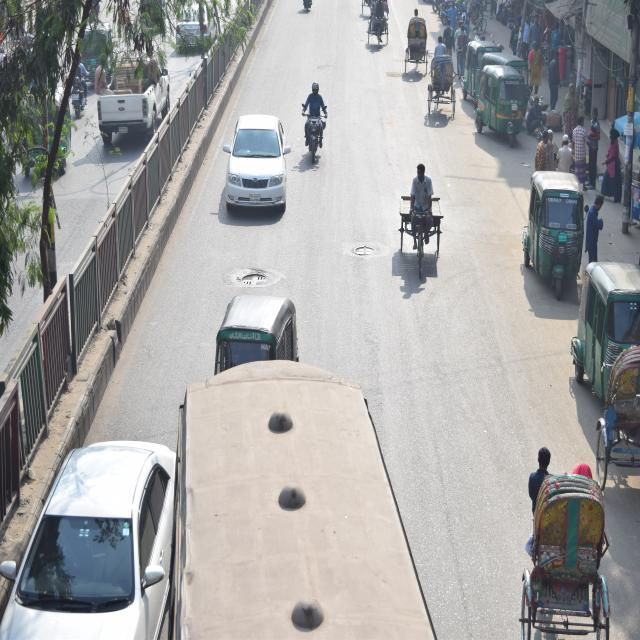bus: (173, 369, 445, 640)
car: (8, 417, 181, 640), (224, 109, 293, 220), (178, 6, 221, 59)
motorbike: (298, 91, 327, 175), (63, 66, 91, 120)
pickup-van: (98, 41, 176, 143)
